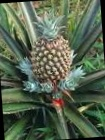Pineapple: (31, 12, 75, 82)
